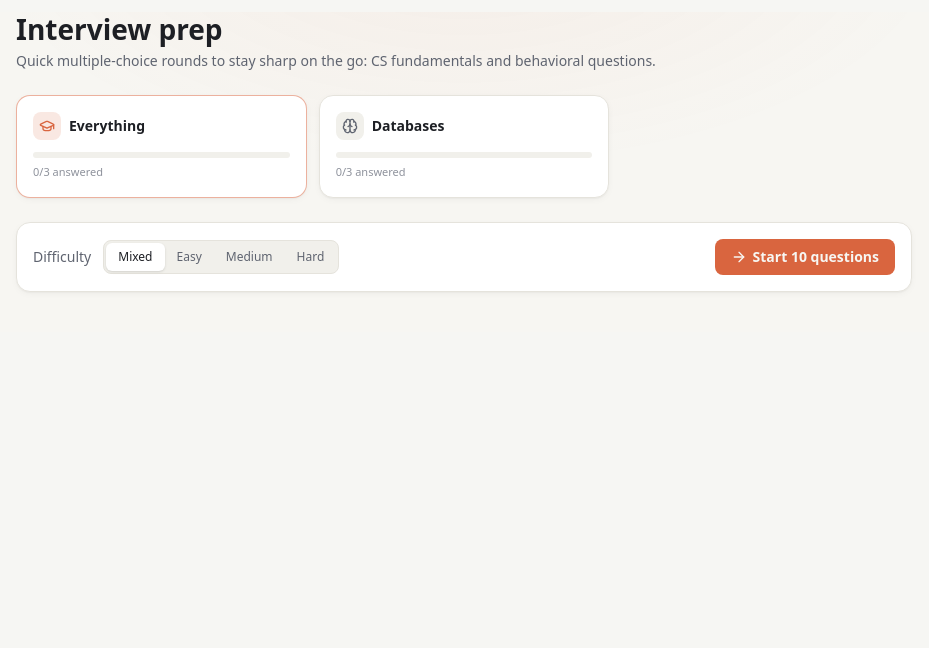
Test case: InterviewPage › runs a quiz: answer, see the explanation, finish with a score
This screenshot has width=929, height=648.
Click the radio button labelled "Easy".
click(189, 256)  # box [164,242,214,270]
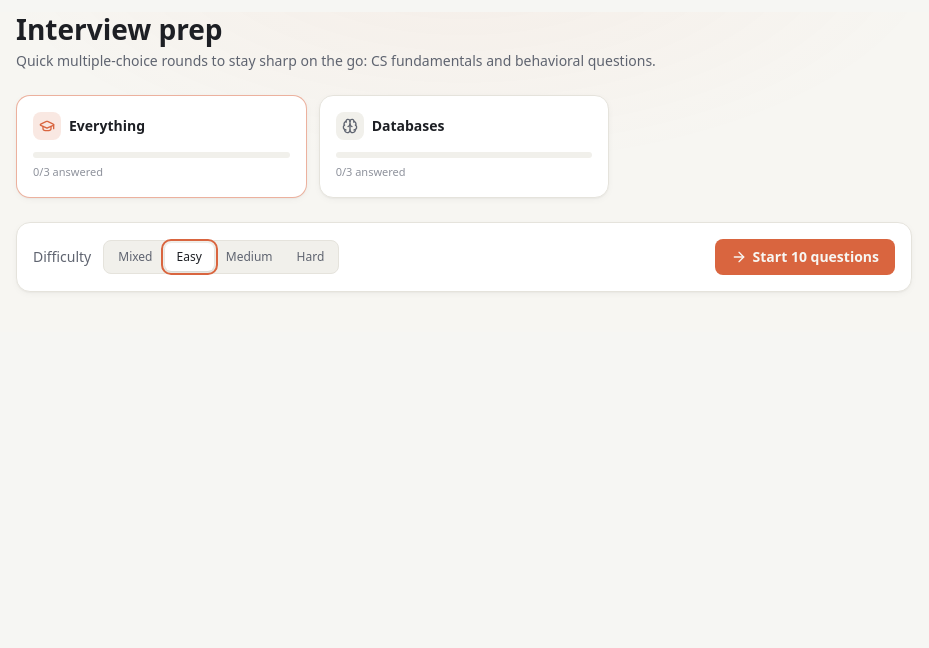
Click the button "Start 10 questions".
click(805, 256)  # box [715,238,895,274]
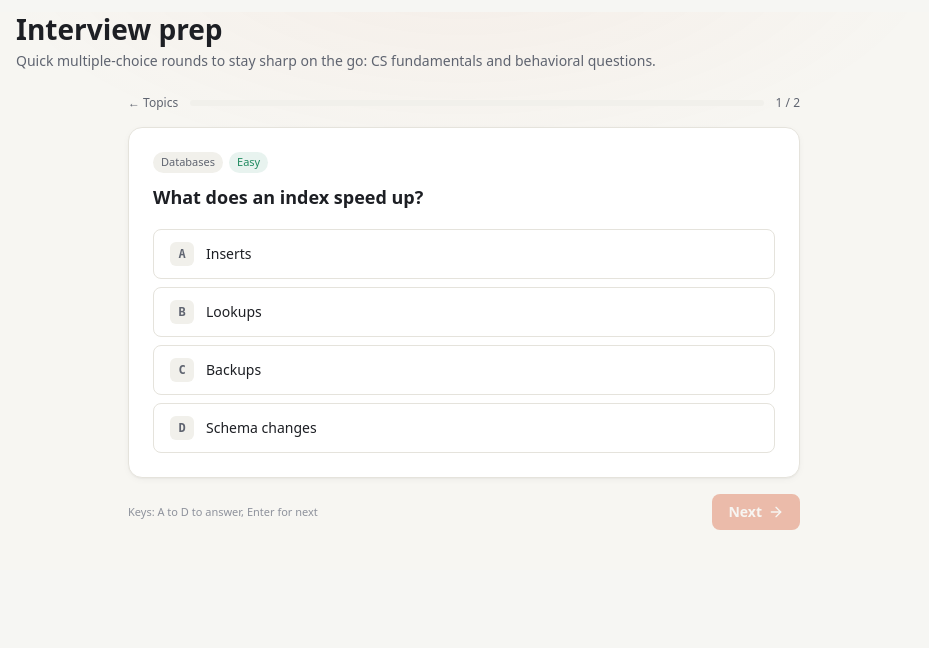
Expected: the heading "What does an index speed up?" is shown, [153,184,423,208]
Click the button "B Lookups".
click(234, 312)  # box [153,287,775,337]
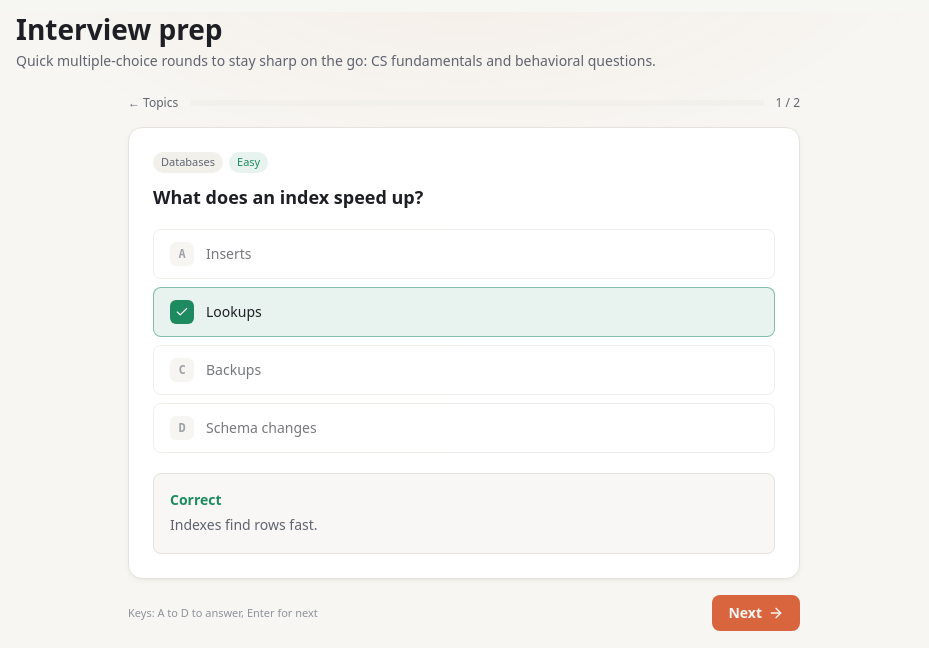
Expected: the text "Indexes find rows fast." is shown, [170,515,318,534]
Expected: the text "Correct" is shown, [170,490,222,509]
Click the button "Next".
click(756, 613)  # box [712,595,800,631]
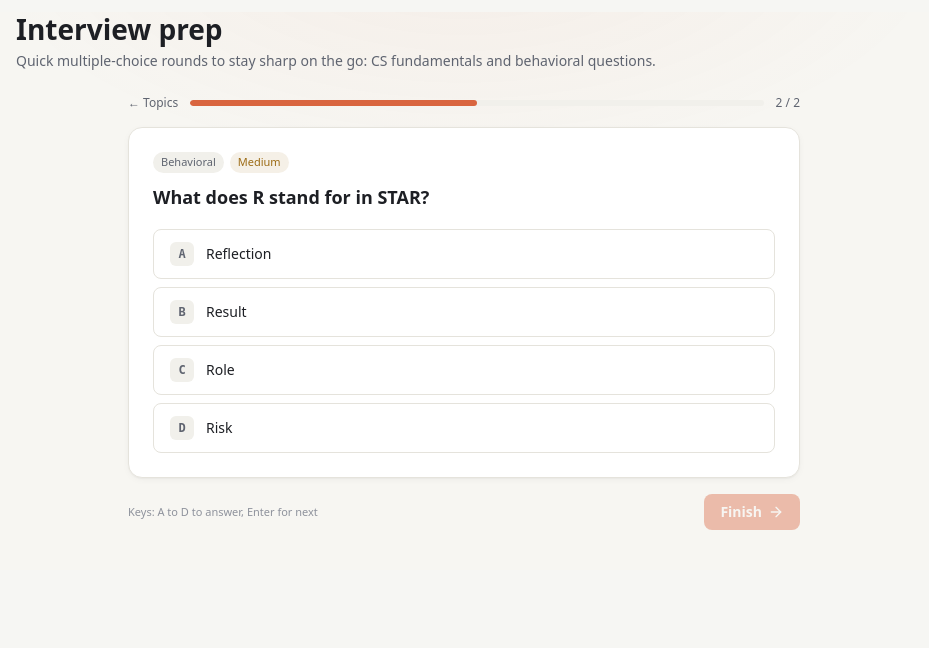
Expected: the heading "What does R stand for in STAR?" is shown, [153,184,429,208]
Type keys "a"
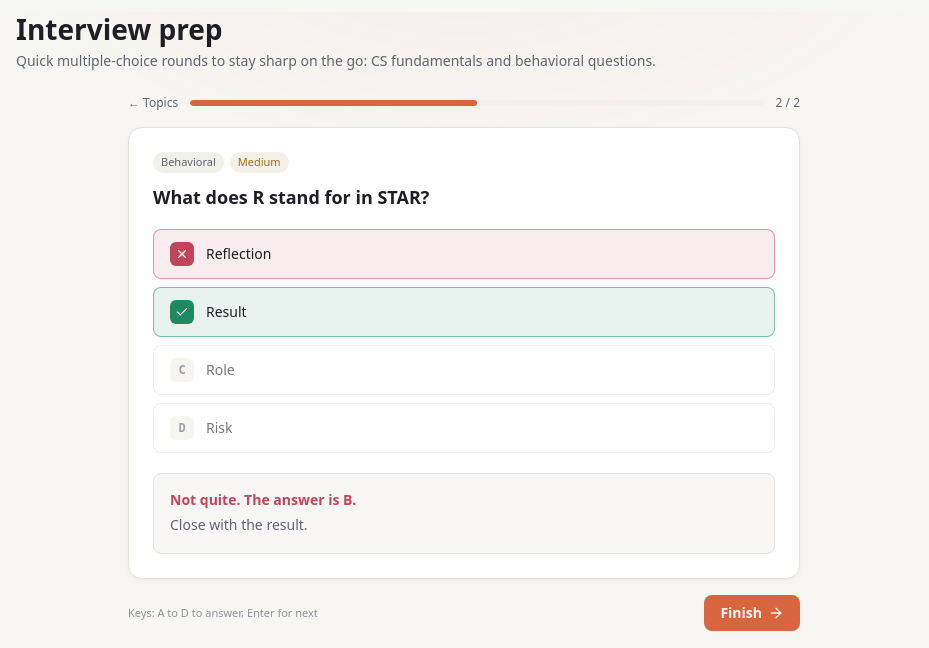
Expected: the text "Not quite. The answer is B." is shown, [170,490,356,509]
Click the button "Finish".
click(752, 613)  # box [704,595,800,631]
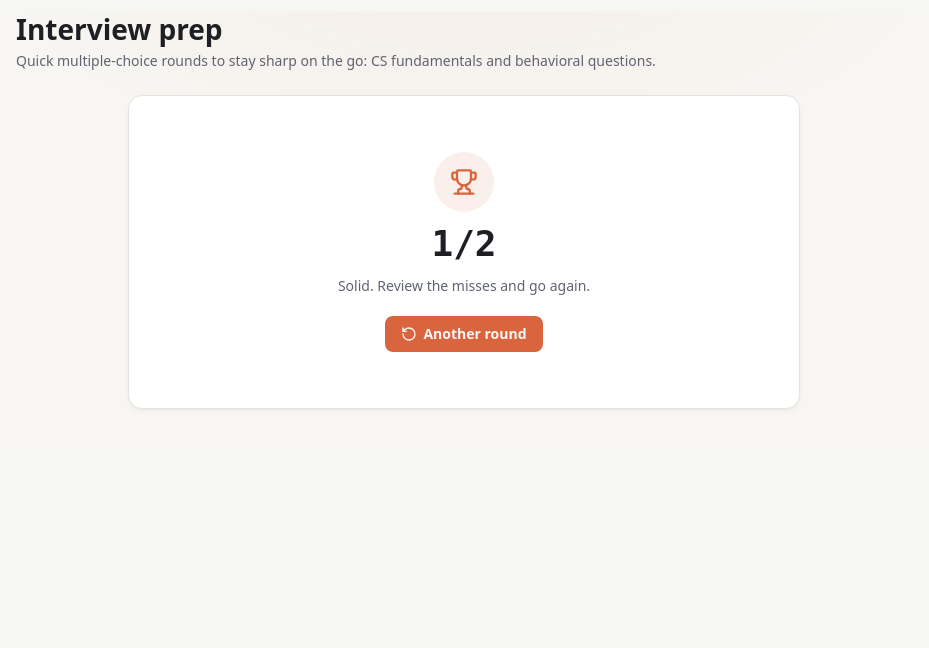
Expected: the text "1/2" is shown, [432,224,497,264]
